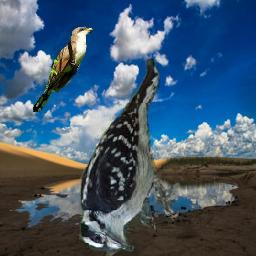Cuckoo: (33, 26, 95, 112)
Woodpecker: (67, 60, 179, 255)
